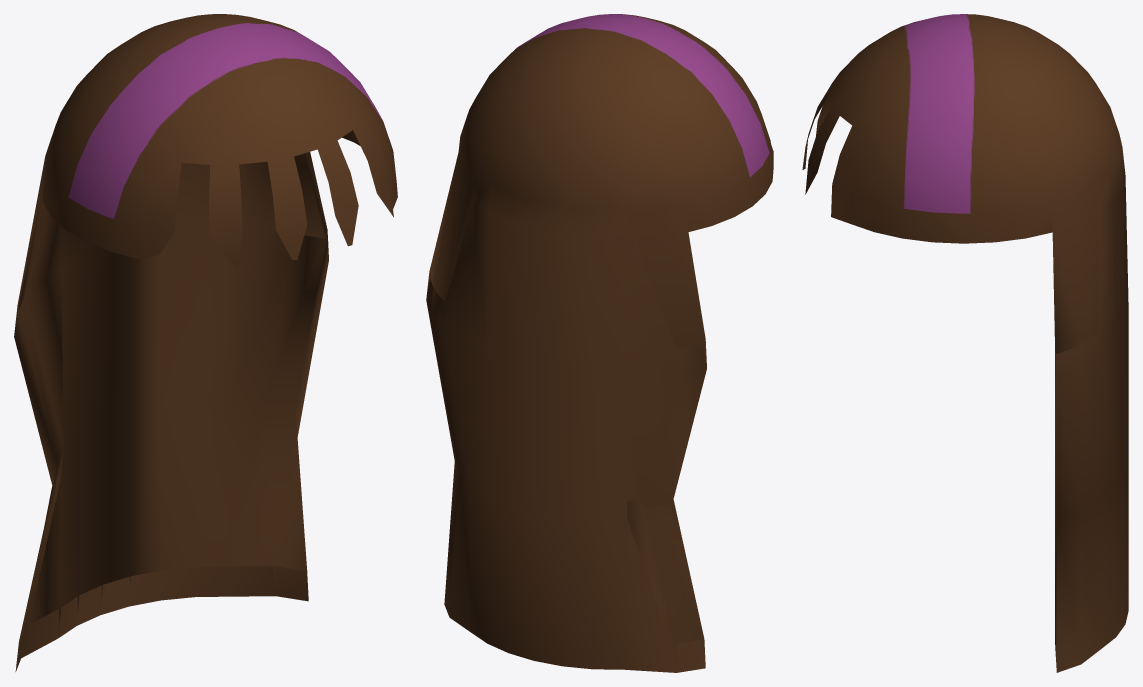
The model's file is HairTest2.glb.
The picture shows the model from 3 angles, left to right: view 1: azimuth 30°, elevation 25°; view 2: azimuth 150°, elevation 25°; view 3: azimuth 270°, elevation 25°; orthographic projection. The views are drawn at different scales.
Parts seen in each view (by area): view 1: FHFFP; view 2: FHFFP; view 3: FHFFP.
Part boxes in pixels (x1,y1,x2,y2): FHFFP: (14,14,397,671); FHFFP: (426,14,773,672); FHFFP: (802,14,1128,672).
Bounding box in the file's own units: 0.5878 × 1.15 × 0.5819.
1 material, 1 textured.
